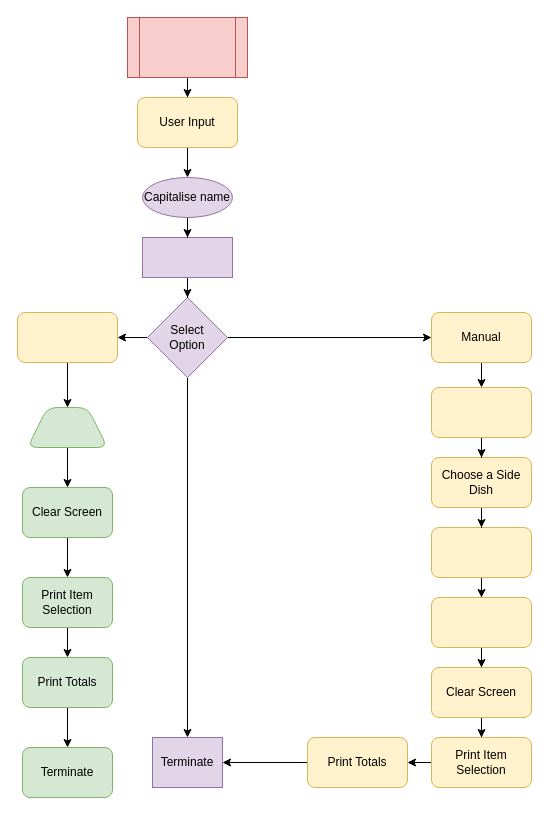
This 549x815 diagram has some shape labels left out. The centre of each missing label's shape, as x and y in pixels:
Choose a Drink: [481,622]
Choose a Main: [481,412]
Choose a Side Sauce: [481,552]
Main Terminal Start Screen: [187,47]
Random: [67,337]
Random Function: [67,427]
Return User Input: [187,257]
